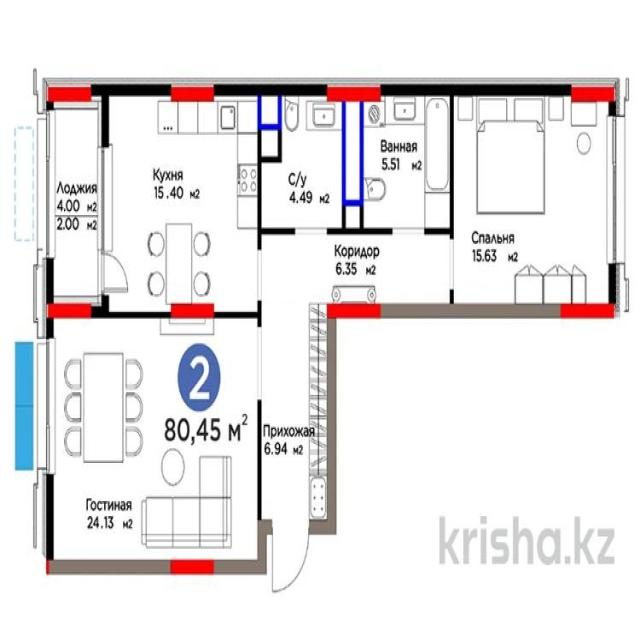balcony: (44, 86, 106, 311)
bathroom: (362, 89, 452, 232), (260, 90, 344, 233)
hallway: (261, 307, 335, 531), (257, 232, 452, 309)
kitchen: (104, 87, 260, 317)
living_room: (46, 316, 260, 570), (450, 91, 618, 316)
